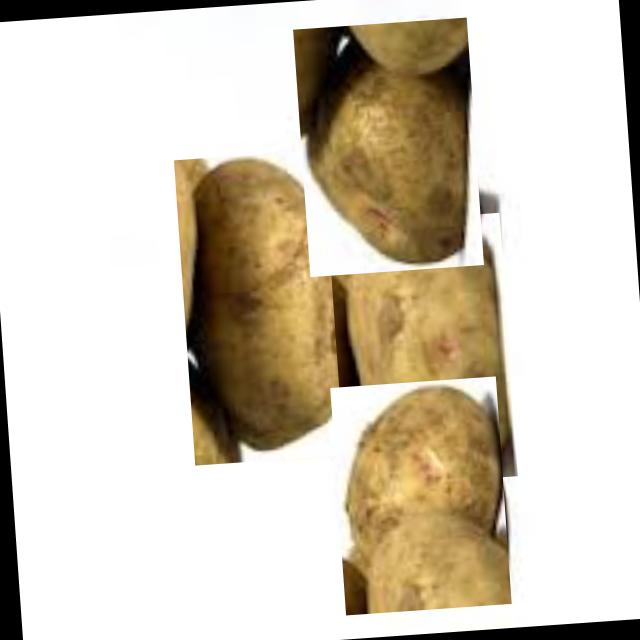Diseased-fungal potato: (172, 147, 374, 466), (326, 212, 516, 488), (292, 17, 482, 277), (328, 376, 511, 615)
